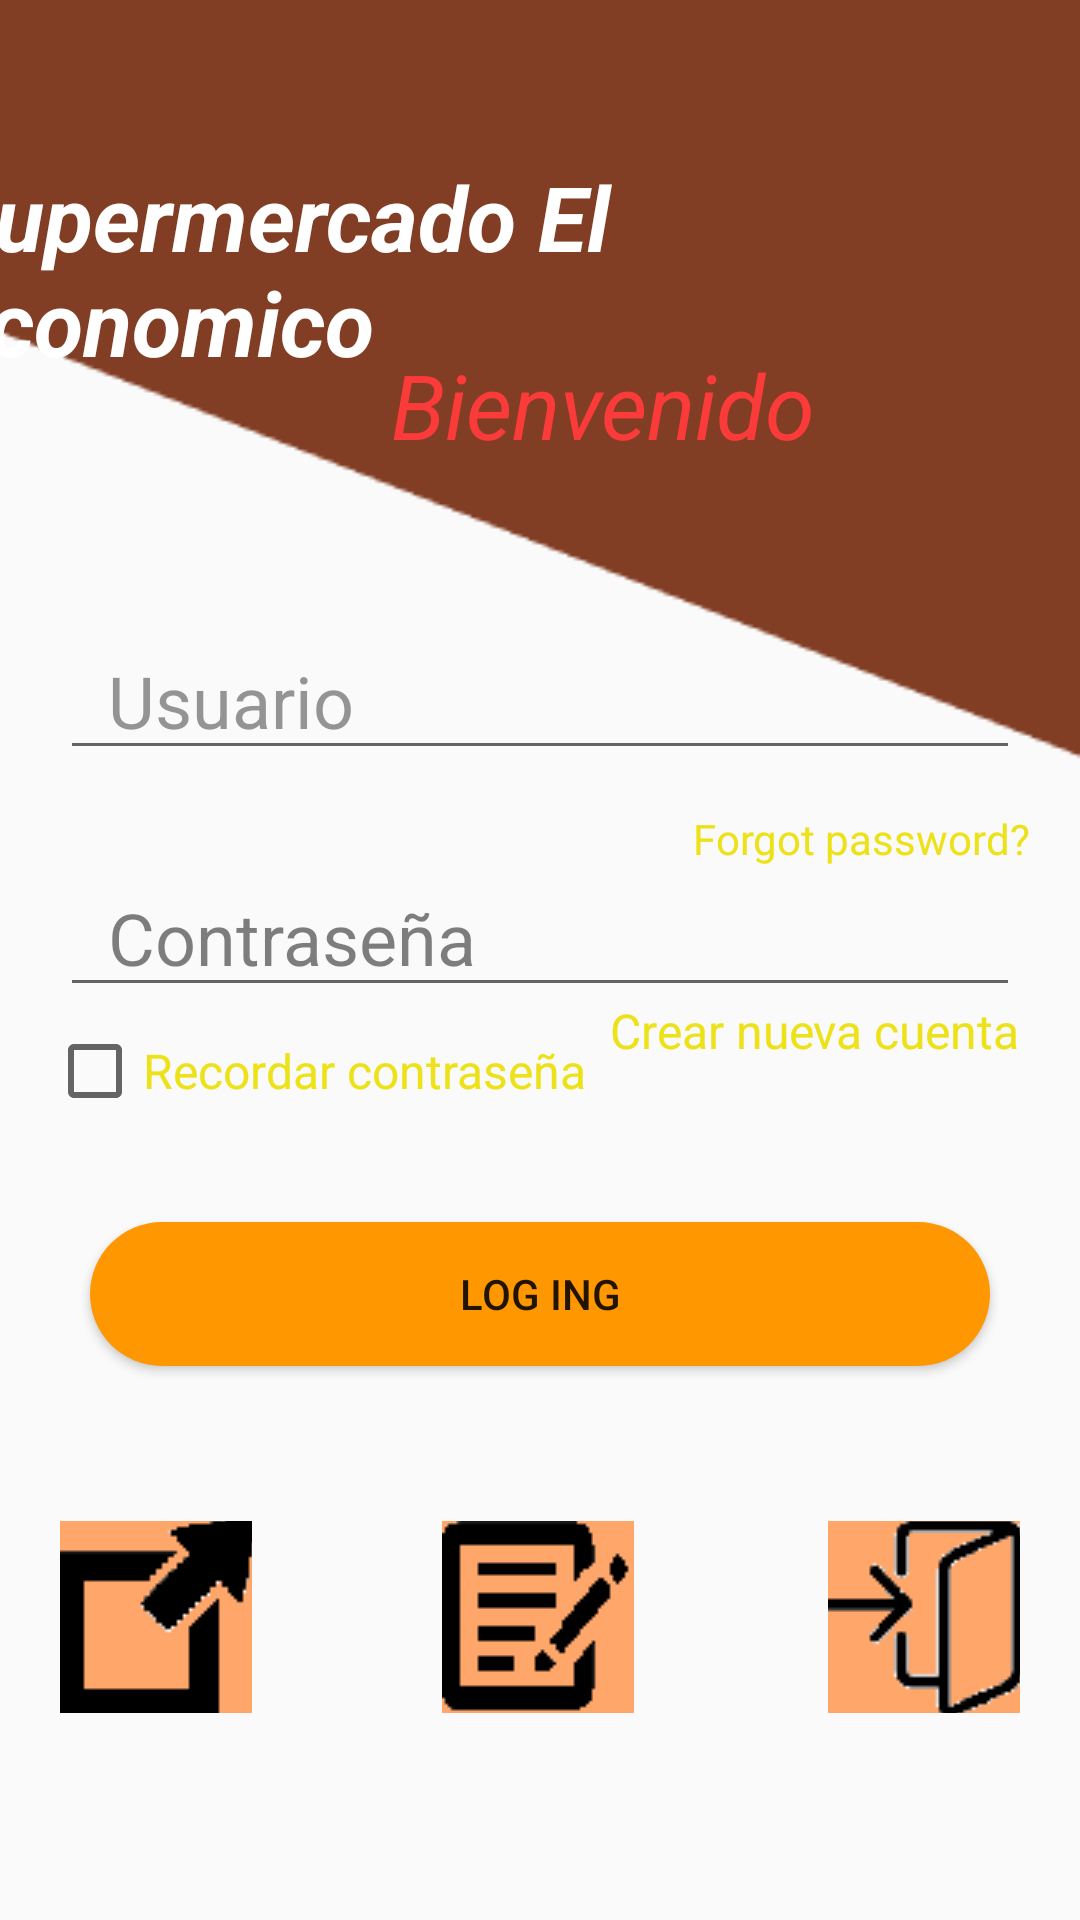

Screen size 1080px×1920px. Icon name, then its box in pixels as BBox(x1, y1, x2, y2):
entrar: BBox(828, 1521, 1020, 1713)
registro: BBox(442, 1521, 634, 1713)
